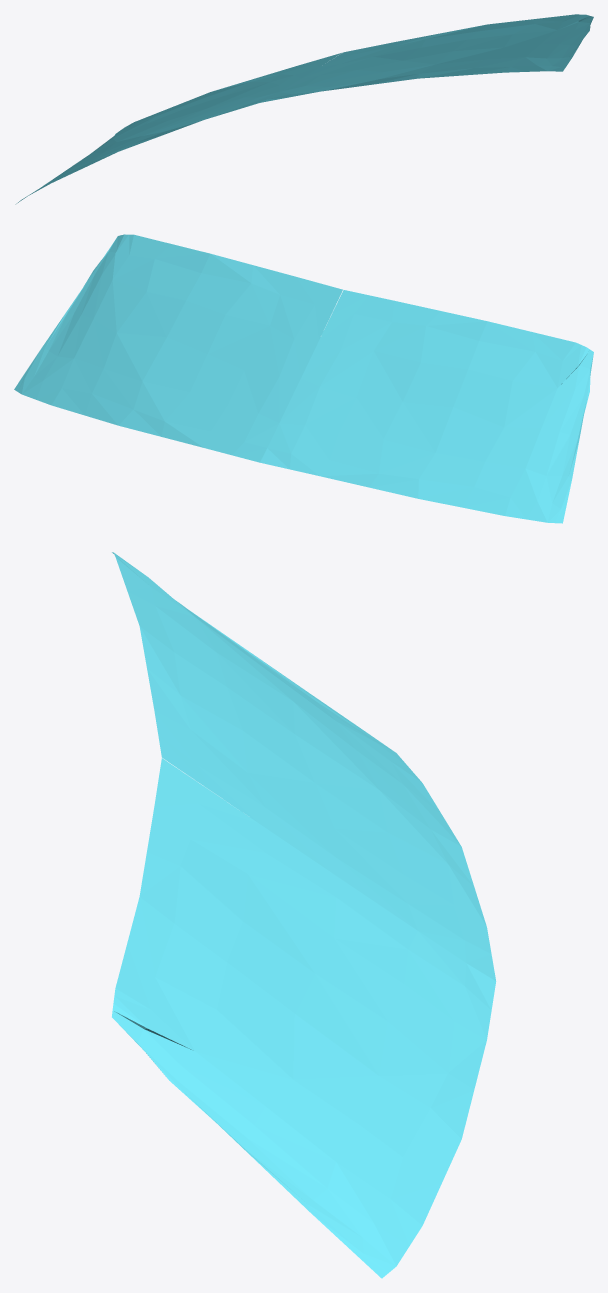
Rendered from Muscle_1_Glass_F_Tesselated.fbx.
The picture shows the model from 3 angles, top to bottom: view 1: azimuth 30°, elevation 25°; view 2: azimuth 150°, elevation 25°; view 3: azimuth 270°, elevation 25°; orthographic projection. The views are drawn at different scales.
Parts seen in each view (by area): view 1: Muscle_1_Glass_F_Tesselated; view 2: Muscle_1_Glass_F_Tesselated; view 3: Muscle_1_Glass_F_Tesselated.
Boxes of the visible parts, x1,y1,x2,y2 form: Muscle_1_Glass_F_Tesselated: (15,14,593,204); Muscle_1_Glass_F_Tesselated: (14,234,593,523); Muscle_1_Glass_F_Tesselated: (112,552,496,1278).
Bounding box in the file's own units: 135 × 29.69 × 40.87.
